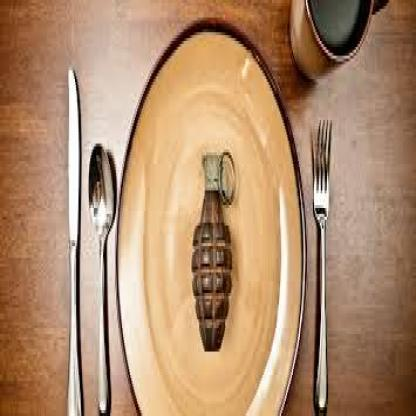Grenade: (191, 148, 237, 353)
Knife: (68, 66, 84, 416)
